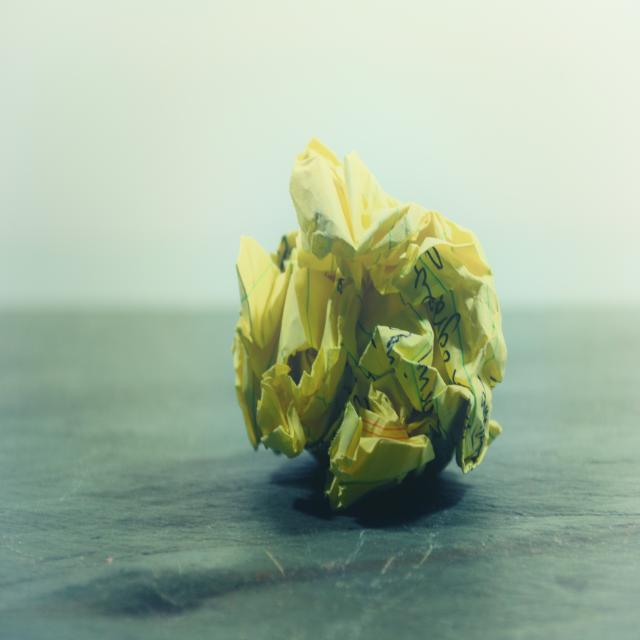paper: (272, 174, 508, 488)
